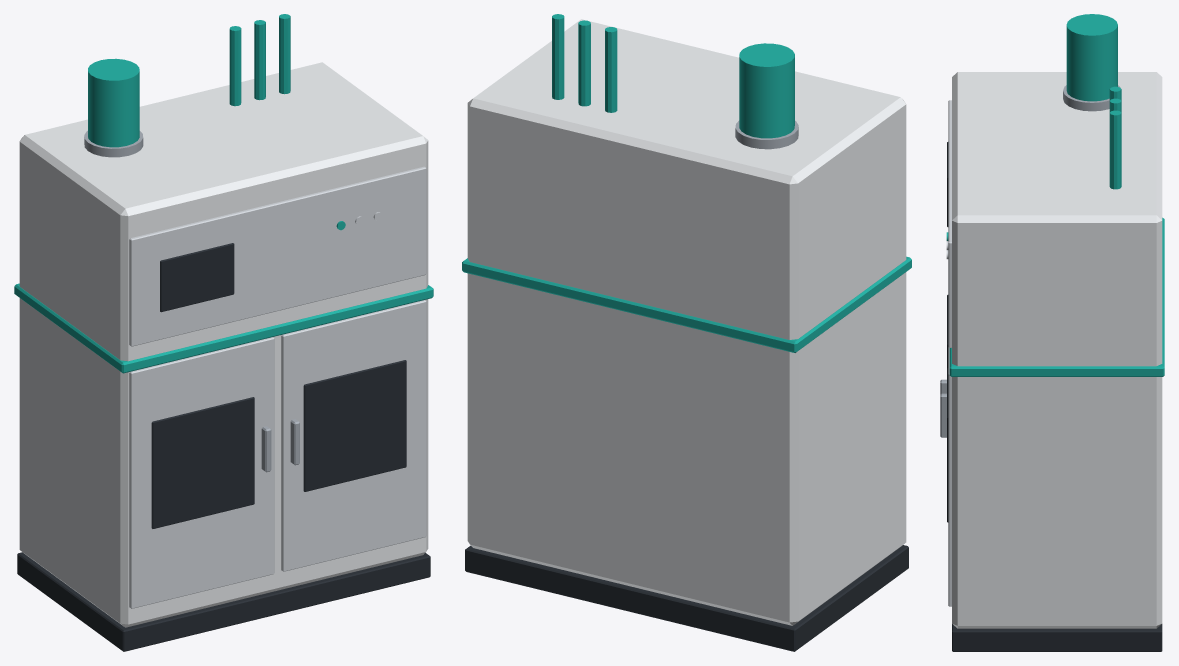
The model's file is chemical-dispense-cabinet.glb.
3 renders of one model, left to right at view 1: azimuth 30°, elevation 25°; view 2: azimuth 150°, elevation 25°; view 3: azimuth 270°, elevation 25°, orthographic. The views are drawn at different scales.
Parts seen in each view (by area): view 1: chemical-dispense-cabinet; view 2: chemical-dispense-cabinet; view 3: chemical-dispense-cabinet.
Boxes of the visible parts, bbox=[...] form: chemical-dispense-cabinet: bbox=[14, 14, 433, 651]; chemical-dispense-cabinet: bbox=[462, 14, 911, 651]; chemical-dispense-cabinet: bbox=[940, 14, 1164, 651].
Bounding box in the file's own units: 1.52 × 2.4 × 0.96.
